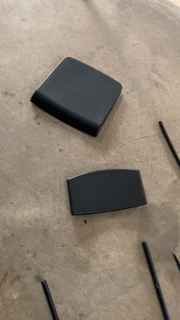Back: (66, 167, 150, 218)
Seat: (27, 54, 125, 142)
